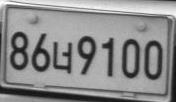0: (143, 39, 163, 81), (121, 38, 140, 79)
1: (99, 37, 119, 77)
6: (30, 32, 50, 73)
8: (9, 30, 29, 70)
9: (76, 34, 97, 75)
너: (52, 41, 73, 74)
